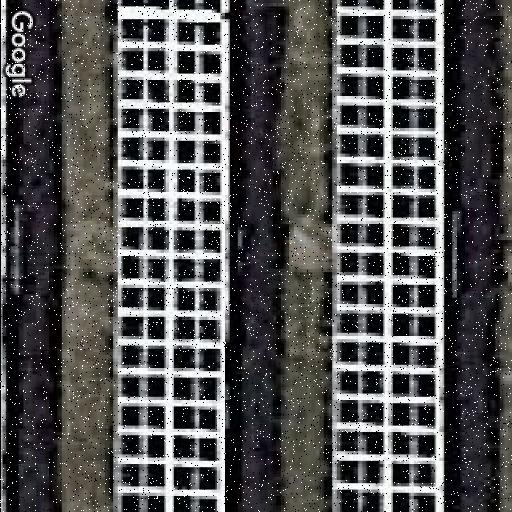solar-panel: (112, 0, 232, 512), (328, 0, 438, 512)
